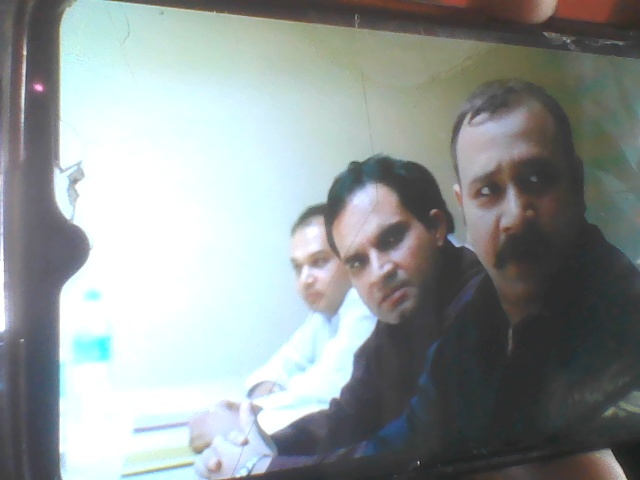fake: (443, 68, 605, 297), (325, 148, 455, 333)
